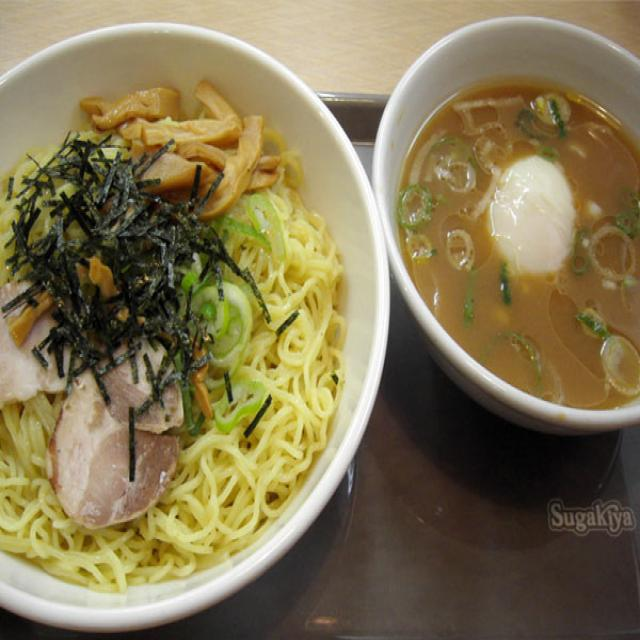面条主食: (4, 54, 636, 592)
